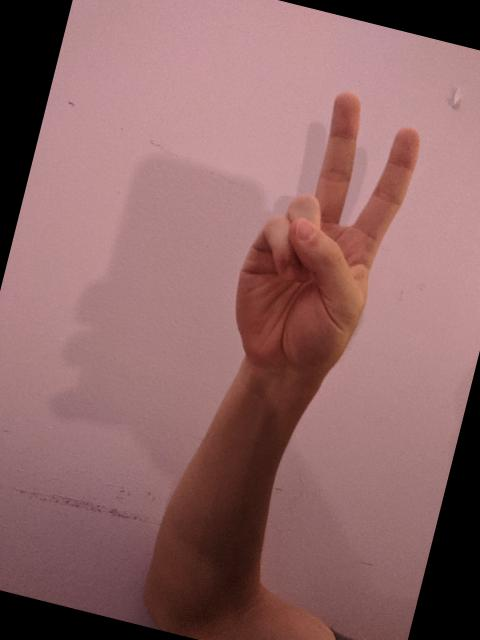V: (216, 73, 434, 391)
